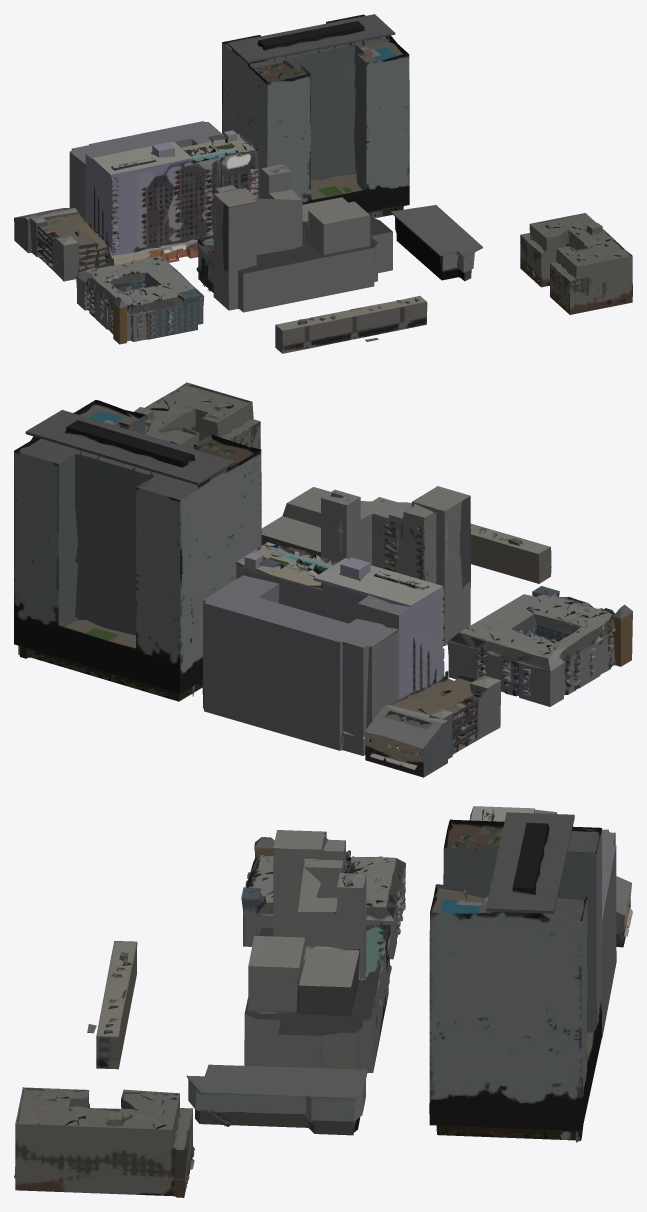
Rendered from t_-3_-1.coat.glb.
3 views of the same model, one above another, from view 1: azimuth 30°, elevation 25°; view 2: azimuth 150°, elevation 25°; view 3: azimuth 270°, elevation 25° (orthographic). The views are drawn at different scales.
Parts seen in each view (by area): view 1: far; view 2: far; view 3: far.
Boxes of the visible parts, x1,y1,x2,y2 form: far: (14,14,632,353); far: (14,382,632,777); far: (14,806,632,1197).
Size of the model in its own units: 259 by 95.74 by 224.
1 material, 1 textured.
